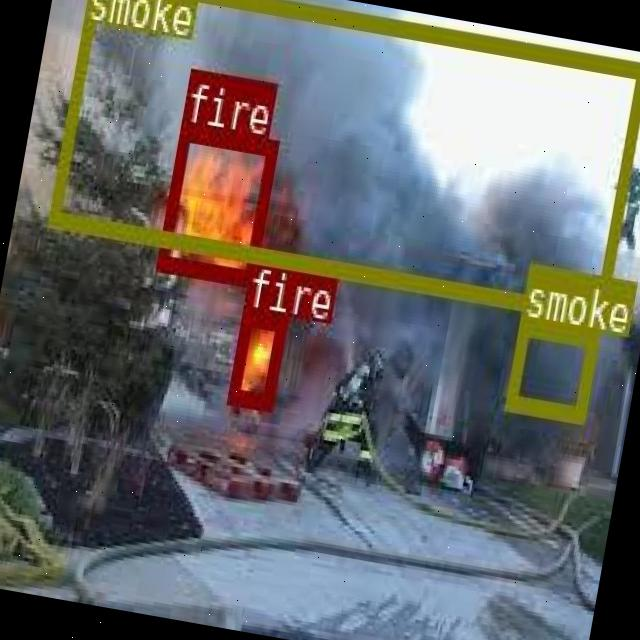fire: (156, 120, 277, 284), (226, 306, 286, 406)
smoke: (46, 0, 640, 319), (502, 316, 598, 418)
